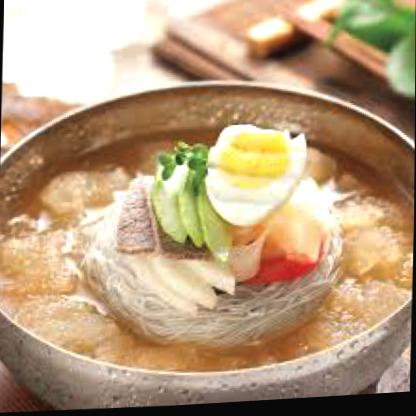naengMyeon: (6, 78, 408, 404)
